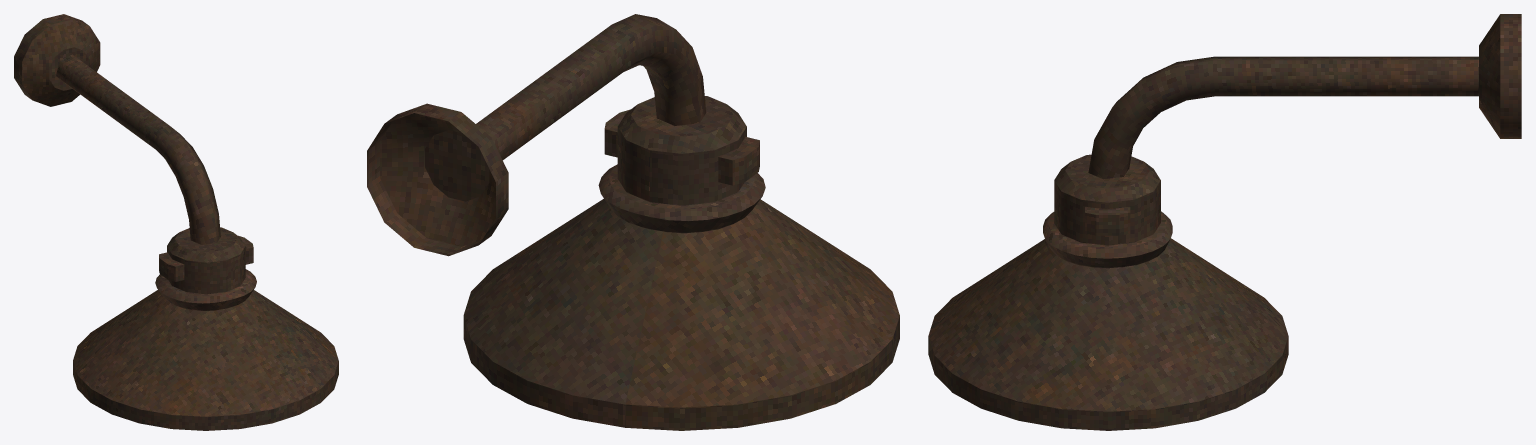
File: lamp_mx_4_on.glb
3 views of the same model, side by side, from view 1: azimuth 30°, elevation 25°; view 2: azimuth 150°, elevation 25°; view 3: azimuth 270°, elevation 25° (orthographic). The views are drawn at different scales.
Parts seen in each view (by area): view 1: lamp_mx_4_on; view 2: lamp_mx_4_on; view 3: lamp_mx_4_on.
Boxes of the visible parts, bbox=[...] form: lamp_mx_4_on: bbox=[14, 14, 338, 430]; lamp_mx_4_on: bbox=[367, 14, 899, 430]; lamp_mx_4_on: bbox=[928, 14, 1521, 430].
Size of the model in its own units: 0.51 by 0.5559 by 0.84.
2 materials, 2 textured.
